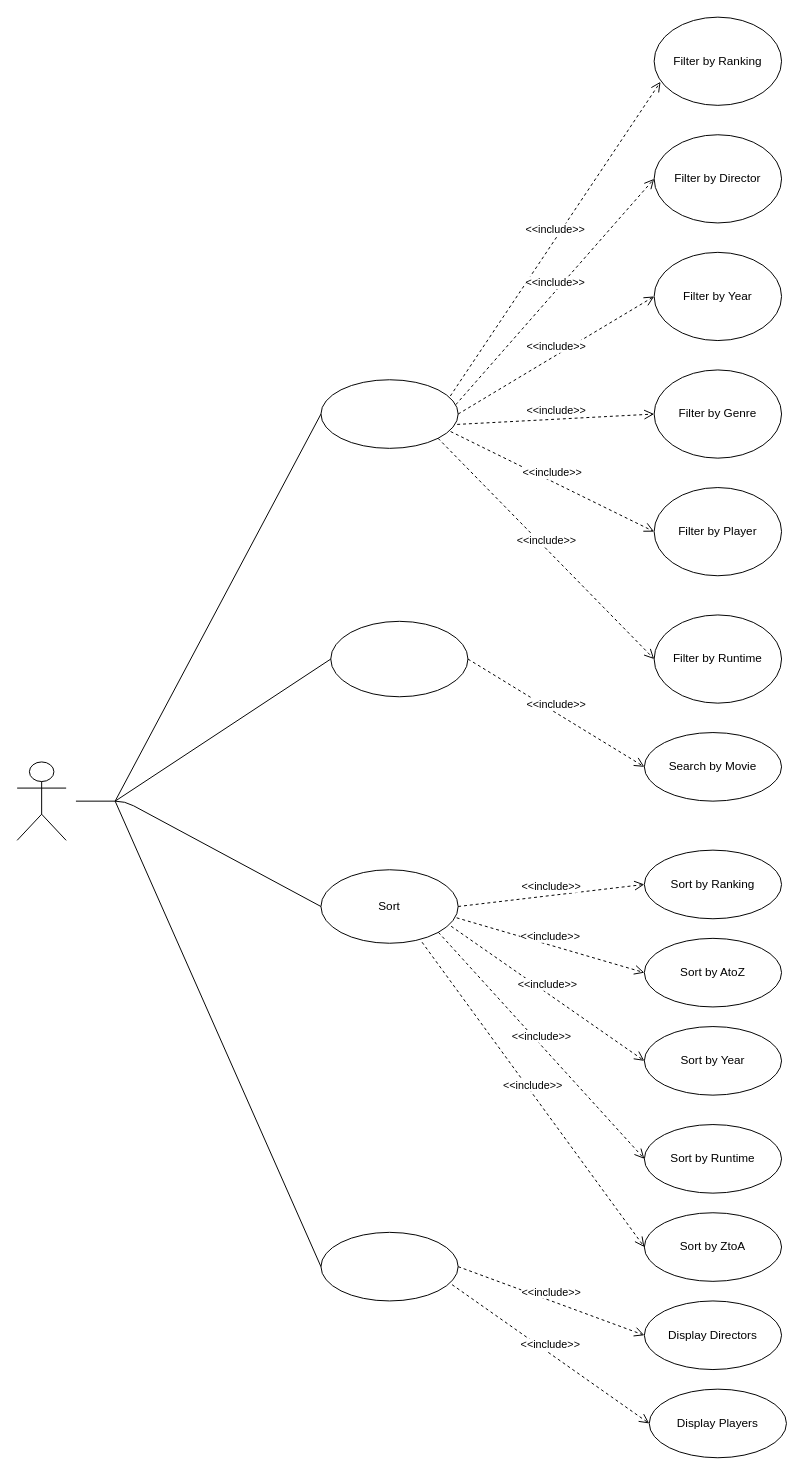
This 804x1475 diagram has some shape labels left out. Each missing label, with the centre of its shape:
"Display" goes at [389,1266].
"Filter" goes at [389,413].
"Search" goes at [399,658].
"User" goes at [41,800].
